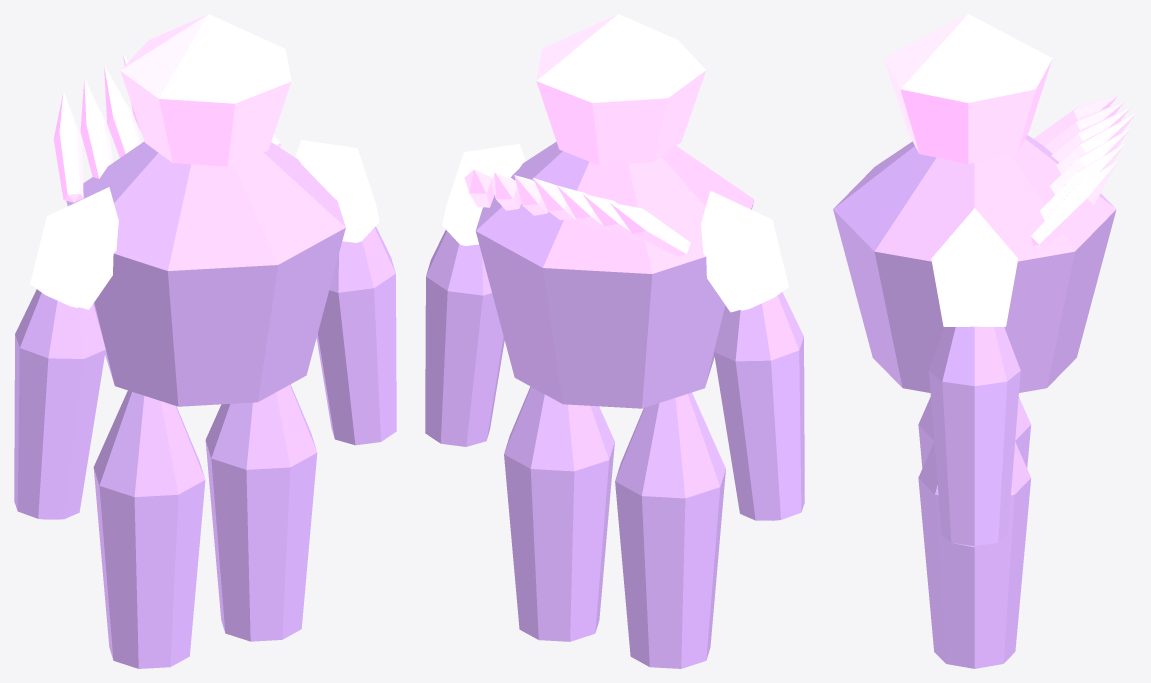
Rendered from deep-fracture-crystal-golem-visual-seidr.glb.
The picture shows the model from 3 angles, left to right: view 1: azimuth 30°, elevation 25°; view 2: azimuth 150°, elevation 25°; view 3: azimuth 270°, elevation 25°; orthographic projection. The views are drawn at different scales.
Parts seen in each view (by area): view 1: crystal-torso, leg-left, leg-right, crystal-crown, arm-left, arm-right, armor-core-left, armor-core-right, dorsal-spire-0, dorsal-spire-1, dorsal-spire-2; view 2: crystal-torso, leg-left, leg-right, crystal-crown, arm-left, arm-right, armor-core-left, armor-core-right, dorsal-spire-0, dorsal-spire-1, dorsal-spire-2, dorsal-spire-3 (+3 smaller); view 3: crystal-torso, crystal-crown, arm-right, leg-right, armor-core-right, dorsal-spire-6, leg-left, dorsal-spire-5, dorsal-spire-4, dorsal-spire-0, dorsal-spire-3, dorsal-spire-1 (+1 smaller).
Part boxes in pixels (box(x1,y1,x2,y2)): crystal-torso: box(66, 141, 345, 406); leg-left: box(93, 390, 205, 668); leg-right: box(205, 384, 317, 641); crystal-crown: box(120, 14, 291, 166); arm-left: box(14, 289, 105, 519); arm-right: box(316, 226, 396, 445); armor-core-left: box(30, 187, 118, 309); armor-core-right: box(295, 140, 379, 242); dorsal-spire-0: box(53, 91, 83, 202); dorsal-spire-1: box(80, 78, 113, 178); dorsal-spire-2: box(104, 65, 140, 157); crystal-torso: box(475, 141, 754, 408); leg-left: box(615, 392, 725, 668); leg-right: box(504, 386, 614, 641); crystal-crown: box(536, 14, 706, 165); arm-left: box(714, 292, 804, 520); arm-right: box(425, 230, 504, 446); armor-core-left: box(701, 190, 788, 312); armor-core-right: box(442, 144, 525, 245); dorsal-spire-0: box(610, 202, 690, 256); dorsal-spire-1: box(582, 193, 644, 240); dorsal-spire-2: box(557, 185, 609, 229); dorsal-spire-3: box(533, 178, 575, 220); crystal-torso: box(833, 135, 1116, 392); crystal-crown: box(884, 14, 1052, 163); arm-right: box(929, 326, 1020, 547); leg-right: box(918, 442, 1031, 668); armor-core-right: box(931, 208, 1017, 326); dorsal-spire-6: box(1030, 161, 1117, 249); leg-left: box(918, 396, 1031, 468); dorsal-spire-5: box(1040, 144, 1124, 220); dorsal-spire-4: box(1050, 128, 1130, 194); dorsal-spire-0: box(1034, 95, 1117, 145); dorsal-spire-3: box(1056, 113, 1136, 174); dorsal-spire-1: box(1044, 101, 1124, 153).
Bounding box in the file's own units: 3.22 × 5.25 × 2.32.
